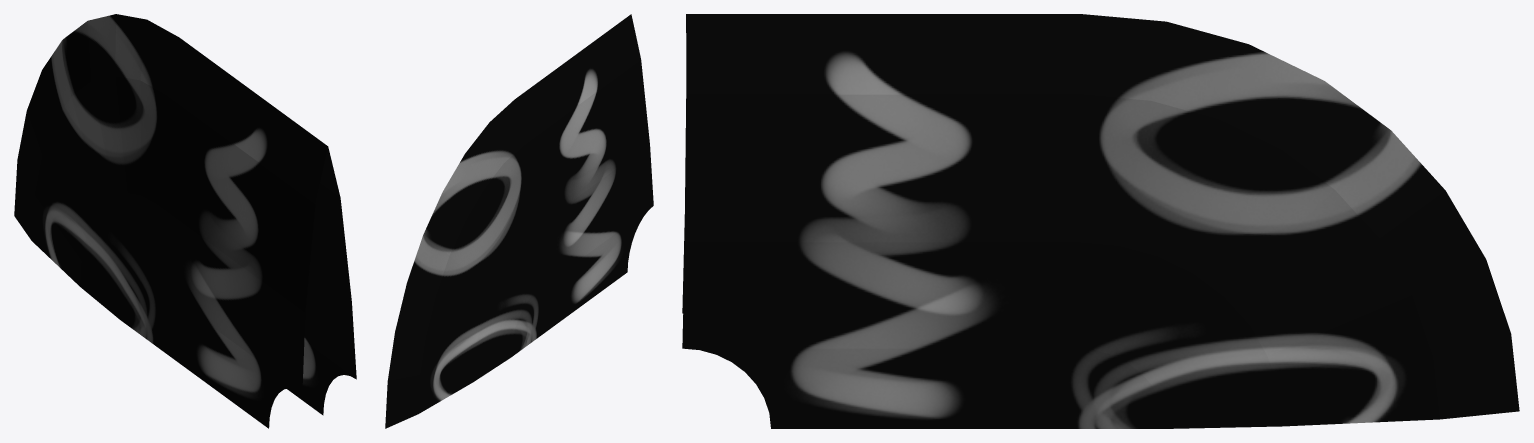
File: Sword_Ego_Back_R02_Mirror.fbx
The picture shows the model from 3 angles, left to right: view 1: azimuth 30°, elevation 25°; view 2: azimuth 150°, elevation 25°; view 3: azimuth 270°, elevation 25°; orthographic projection. The views are drawn at different scales.
Visible parts, largest first — view 1: Cylinder.006; view 2: Cylinder.006; view 3: Cylinder.006.
Boxes of the visible parts, left/top/right/bottom form: Cylinder.006: left=14, top=14, right=356, bottom=428; Cylinder.006: left=385, top=14, right=653, bottom=428; Cylinder.006: left=682, top=14, right=1519, bottom=428.
Bounding box in the file's own units: 191 × 18.98 × 100.
